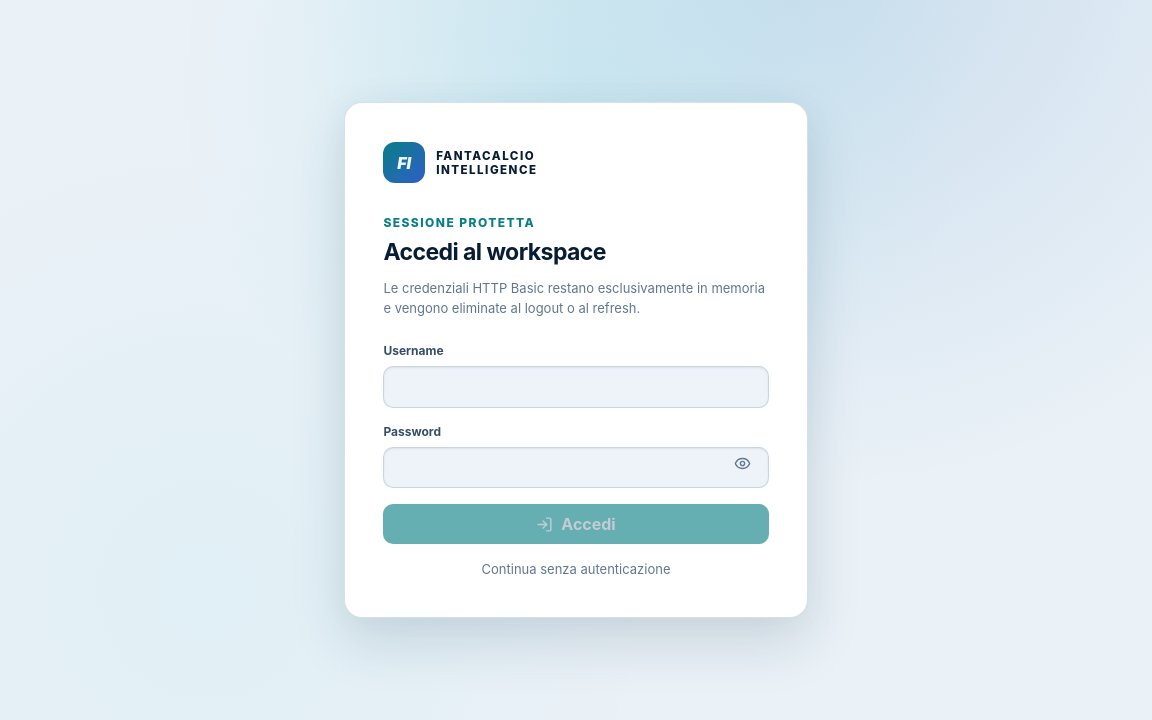
Scenario: App shell e router › mostra un errore specifico per credenziali non valide
This screenshot has width=1152, height=720.
Type "invalid" into the field labelled "Username" at {"x": 576, "y": 387}, box x1=383 y1=366 x2=769 y2=408
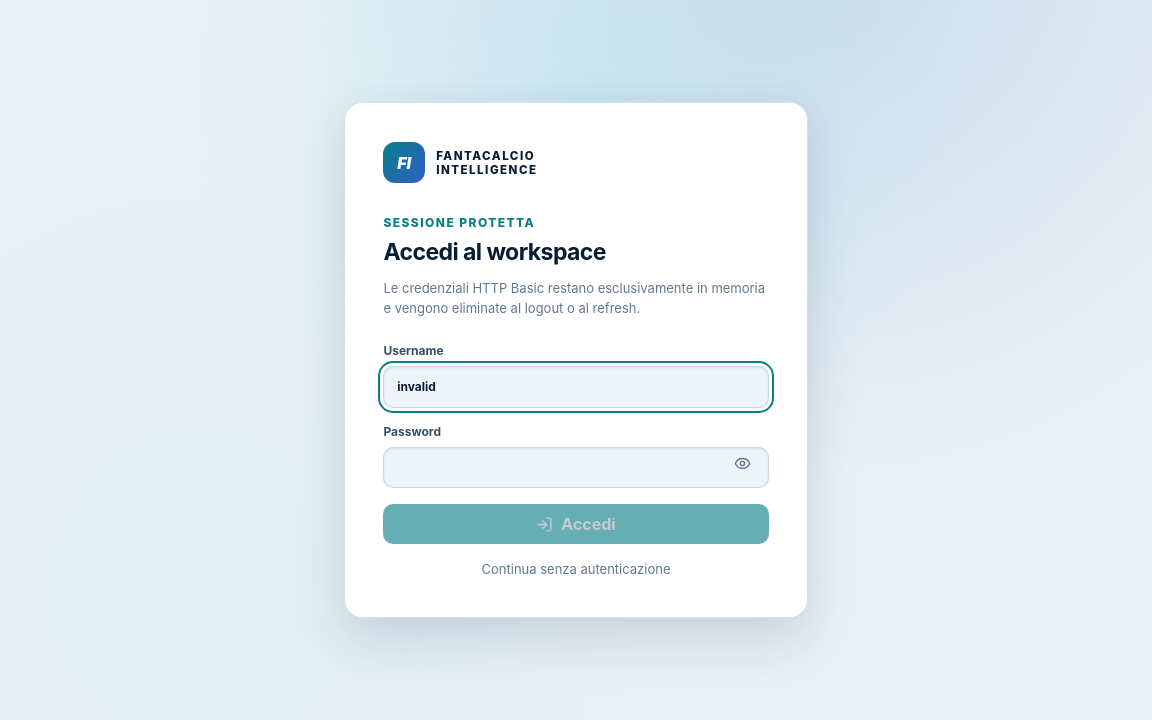
Type "invalid" into the password field labelled "Password" at {"x": 576, "y": 468}, box x1=383 y1=447 x2=769 y2=488
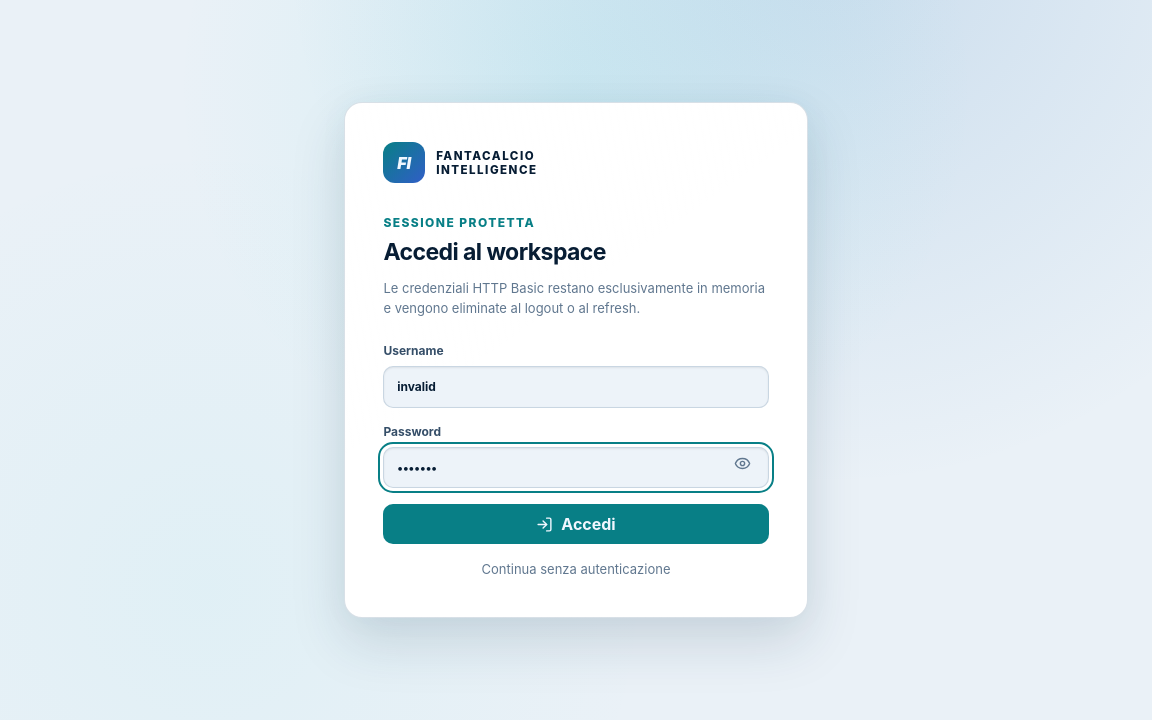
Click the button "Accedi" at {"x": 576, "y": 524}, box x1=383 y1=504 x2=769 y2=544
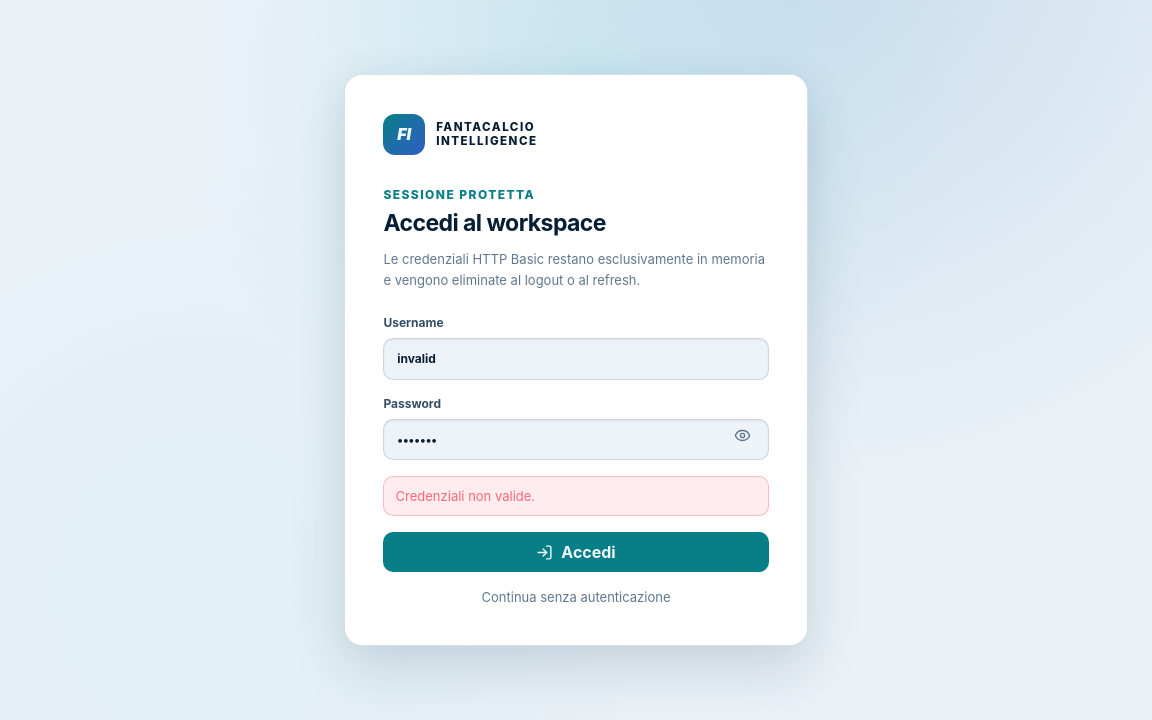
Check: the message reads "Credenziali non valide.", box x1=396 y1=488 x2=535 y2=504
